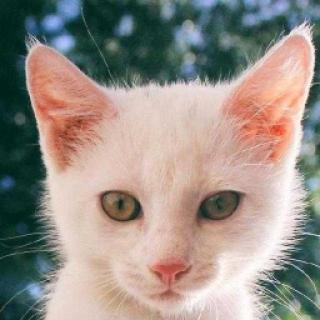cat: (22, 35, 320, 312)
nose: (142, 238, 200, 293)
